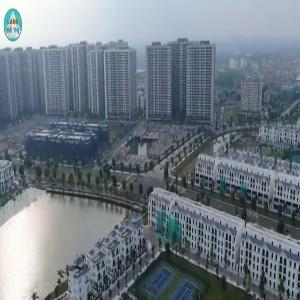drone: (60, 249, 99, 288)
